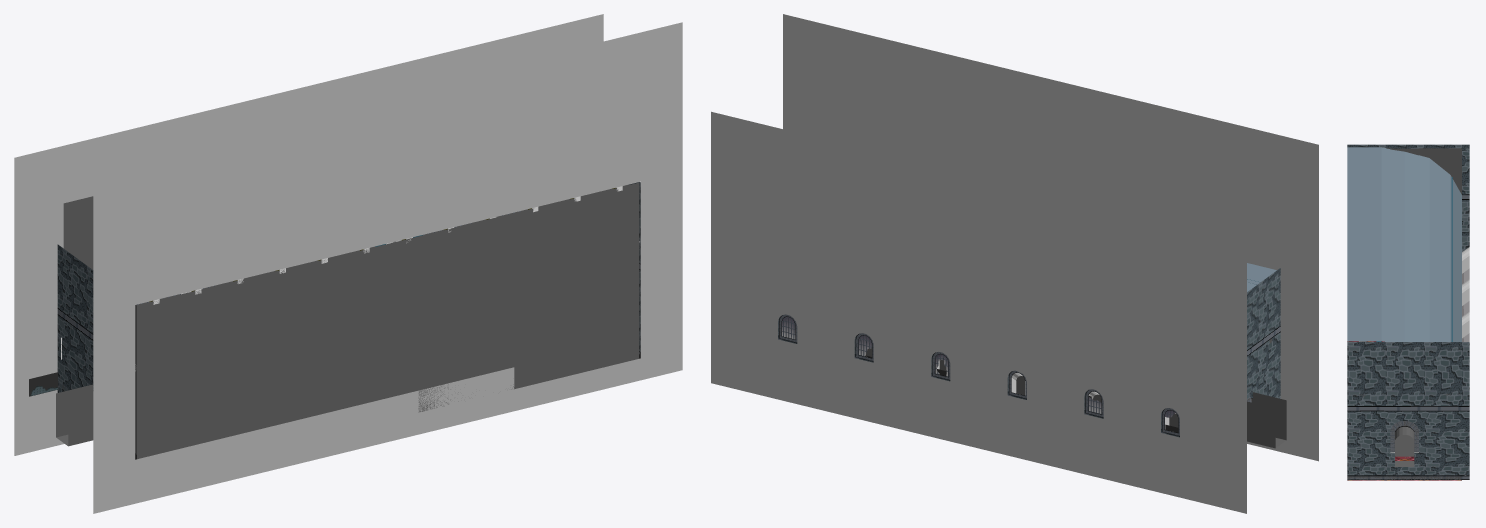
The model's file is gon_09_bake_split.dae.
3 renders of one model, left to right at view 1: azimuth 30°, elevation 25°; view 2: azimuth 150°, elevation 25°; view 3: azimuth 270°, elevation 25°, orthographic. The views are drawn at different scales.
Parts seen in each view (by area): view 1: kuro8, a_kabemae, polySurface909_q00105, polySurface473_q00099_part0, polySurface409_q00007, a_kabeushi; view 2: polySurface909_q00105, kuro8, polySurface473_q00099_part0, polySurface409_q00007, polySurface909_q00103_part1, polySurface909_q00103_part0_VC; view 3: polySurface7_q00143, polySurface474_q00100_part0, polySurface474_q00100_part1, a_kabeyoko, polySurface473_q00099_part0, polySurface787_q00094, polySurface890_q00109, pCube151_q00090, pCube151_q00105_part1, polySurface890_q00110, polySurface494_q00129_part0.
Part boxes in pixels (x1=…): kuro8: x1=93, y1=22, x2=682, y2=513; a_kabemae: x1=136, y1=182, x2=639, y2=459; polySurface909_q00105: x1=14, y1=14, x2=603, y2=455; polySurface473_q00099_part0: x1=57, y1=244, x2=93, y2=392; polySurface409_q00007: x1=56, y1=384, x2=93, y2=446; a_kabeushi: x1=63, y1=196, x2=395, y2=256; polySurface909_q00105: x1=711, y1=111, x2=1246, y2=513; kuro8: x1=783, y1=14, x2=1318, y2=461; polySurface473_q00099_part0: x1=1247, y1=268, x2=1280, y2=399; polySurface409_q00007: x1=1247, y1=392, x2=1286, y2=448; polySurface909_q00103_part1: x1=779, y1=314, x2=1179, y2=436; polySurface909_q00103_part0_VC: x1=782, y1=317, x2=1175, y2=417; polySurface7_q00143: x1=1347, y1=147, x2=1461, y2=341; polySurface474_q00100_part0: x1=1347, y1=342, x2=1469, y2=475; polySurface474_q00100_part1: x1=1347, y1=406, x2=1469, y2=479; a_kabeyoko: x1=1347, y1=148, x2=1461, y2=479; polySurface473_q00099_part0: x1=1347, y1=144, x2=1469, y2=251; polySurface787_q00094: x1=1395, y1=435, x2=1414, y2=456; polySurface890_q00109: x1=1462, y1=247, x2=1469, y2=305; pCube151_q00090: x1=1451, y1=177, x2=1452, y2=341; pCube151_q00105_part1: x1=1462, y1=268, x2=1469, y2=341; polySurface890_q00110: x1=1462, y1=312, x2=1469, y2=338; polySurface494_q00129_part0: x1=1395, y1=426, x2=1414, y2=439.
Size of what is drawn, in the model's own units: 140 by 79 by 32.5.
